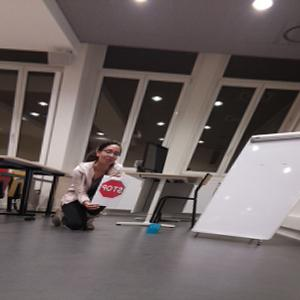stop: (100, 177, 125, 199)
